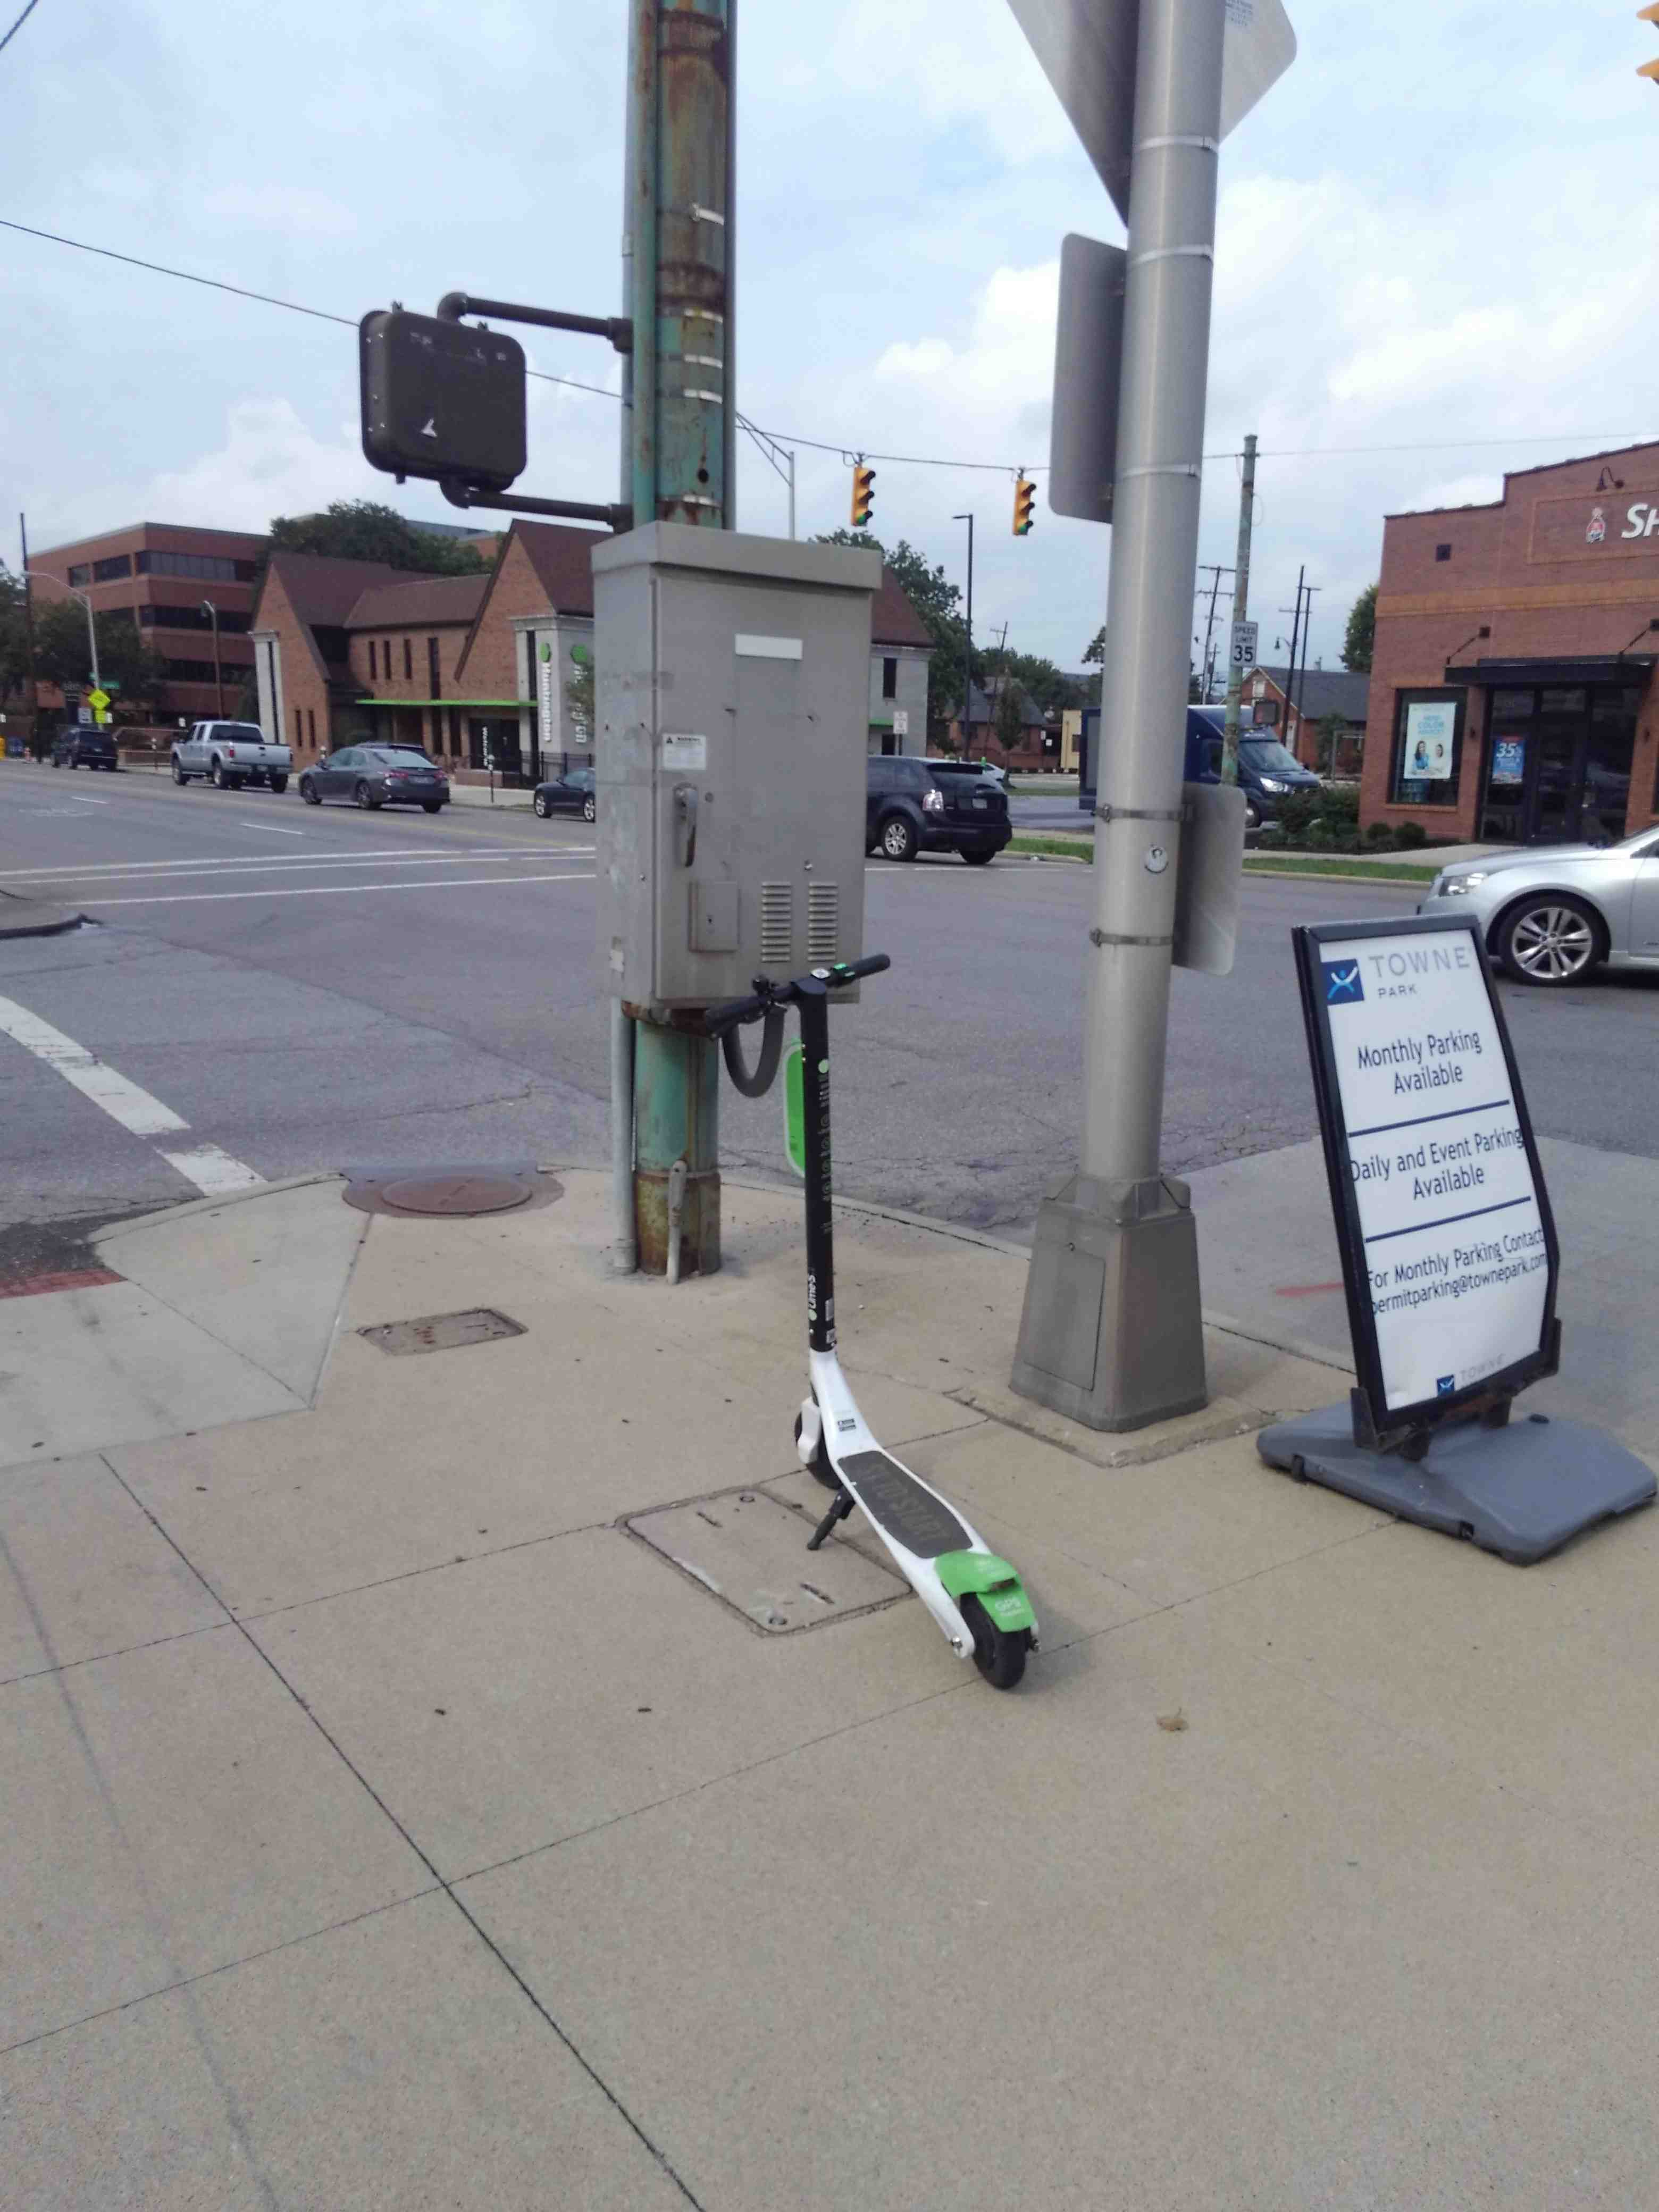scooter: (692, 907, 1046, 1710)
